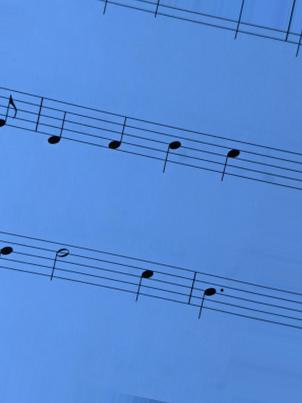note: (130, 251, 156, 309), (158, 119, 184, 177), (194, 268, 218, 324), (217, 132, 242, 185), (46, 97, 70, 150), (105, 106, 129, 157)
